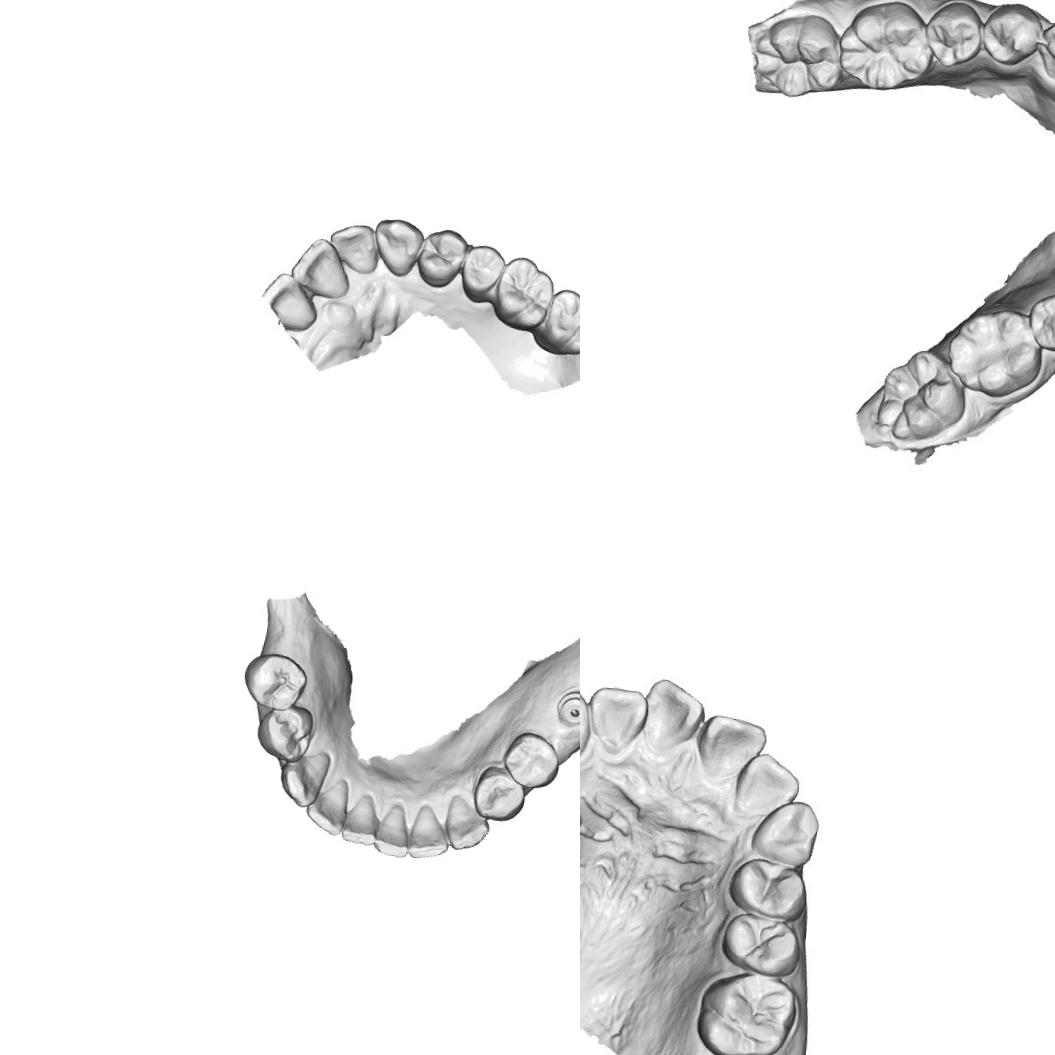canine: (758, 800, 818, 866), (370, 214, 426, 280), (276, 745, 332, 809), (442, 792, 493, 853), (1037, 16, 1055, 82), (580, 686, 592, 754)
implant: (552, 686, 580, 727)
incisor: (637, 674, 699, 751), (698, 716, 766, 786), (732, 756, 798, 828), (286, 234, 355, 300), (257, 270, 322, 333), (587, 682, 645, 750), (326, 220, 382, 275), (302, 776, 352, 836), (407, 801, 452, 861), (370, 801, 412, 858), (339, 791, 380, 848)
molar: (871, 344, 971, 446), (943, 303, 1046, 402), (833, 0, 936, 95), (749, 7, 844, 102), (701, 973, 798, 1055), (490, 253, 557, 333), (240, 648, 309, 712), (529, 284, 580, 359)
premolar: (721, 909, 806, 976), (732, 852, 808, 920), (978, 0, 1045, 69), (920, 0, 985, 71), (250, 702, 316, 764), (500, 730, 562, 790), (414, 224, 467, 291), (470, 762, 528, 822), (457, 241, 505, 306), (1024, 289, 1055, 355)
